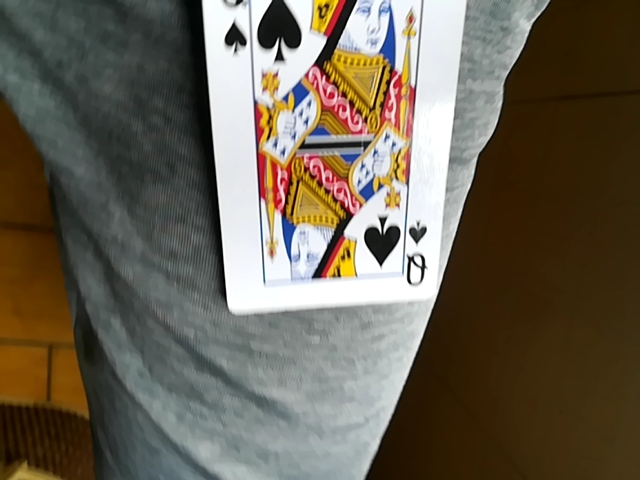ht q: (196, 1, 467, 318)
